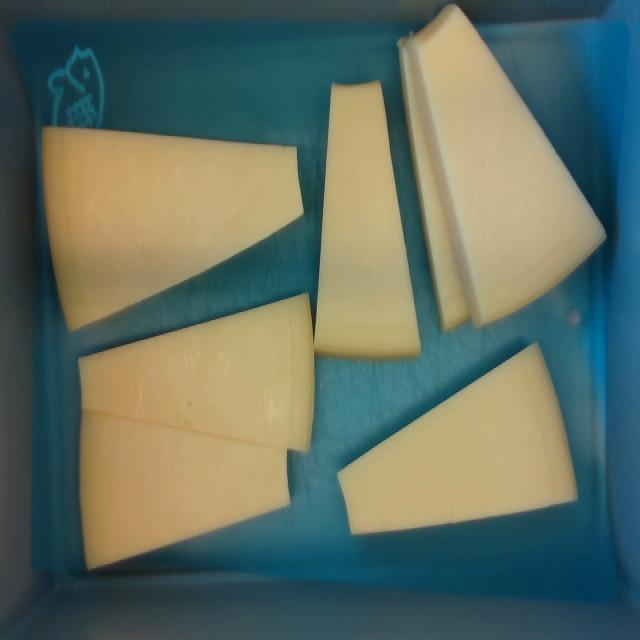Cheese: (423, 6, 604, 324), (44, 128, 302, 328), (340, 345, 576, 532), (83, 295, 313, 448), (81, 415, 288, 564), (315, 83, 419, 355)
